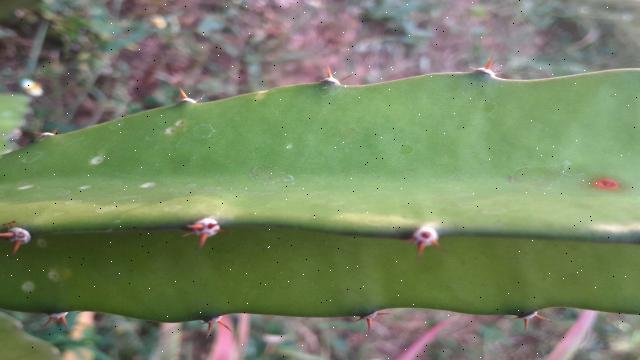stemcanker: (585, 173, 628, 198), (82, 150, 113, 172), (134, 177, 160, 196)
